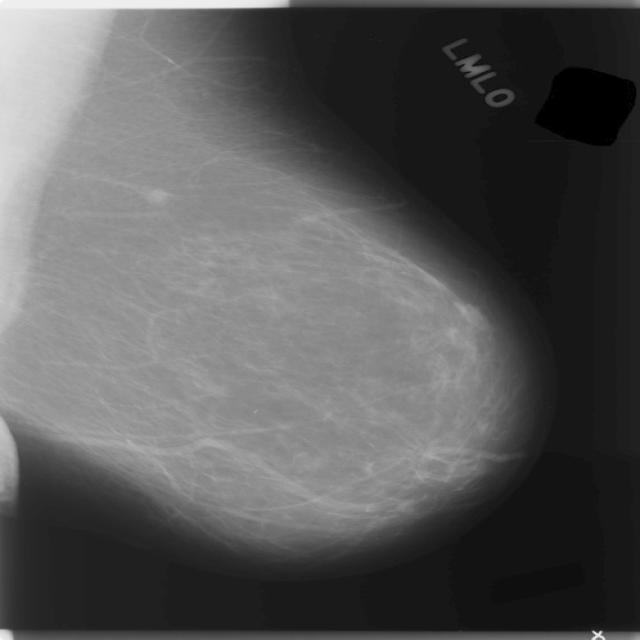tumour: (141, 187, 167, 204)
